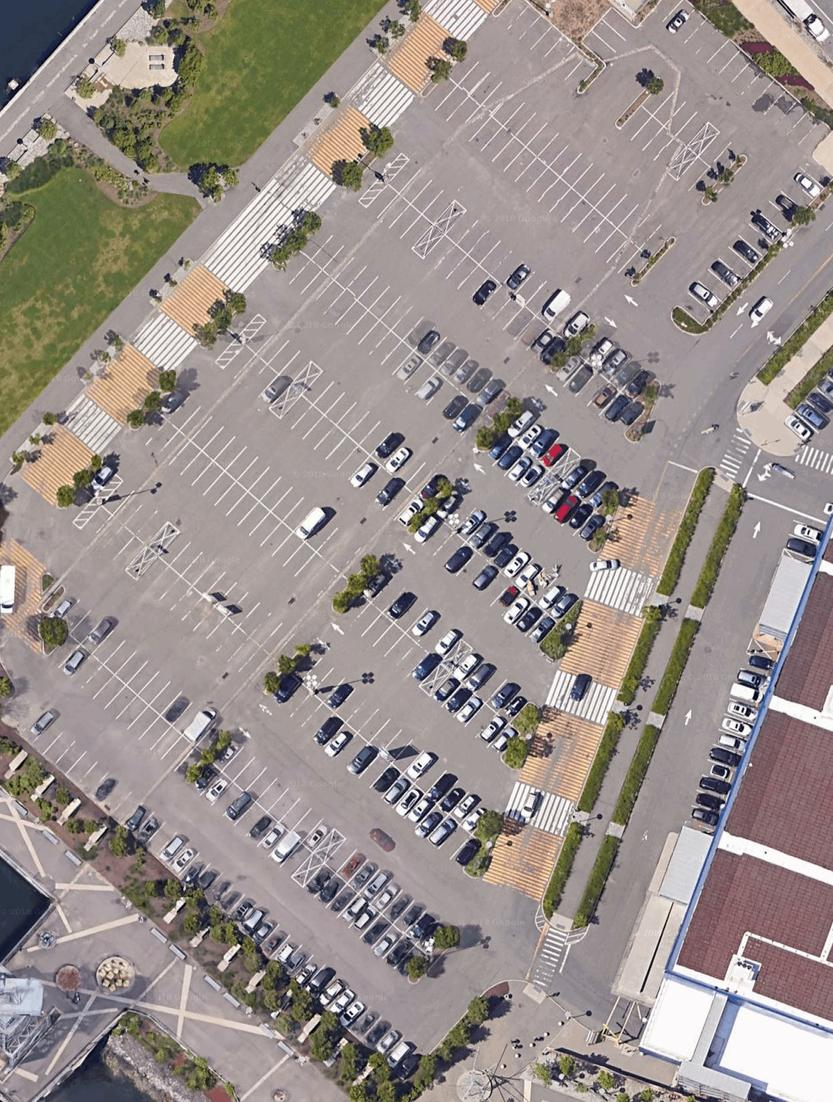parkingspot: (17, 707, 425, 1083), (421, 73, 653, 287), (444, 49, 675, 261), (132, 408, 351, 610), (154, 385, 375, 585), (275, 249, 497, 448), (268, 671, 486, 872), (300, 223, 518, 419), (289, 646, 492, 836), (45, 586, 226, 755), (647, 0, 833, 157), (675, 153, 833, 327), (45, 632, 205, 783), (444, 207, 597, 348), (157, 529, 311, 667), (409, 511, 560, 651), (300, 368, 451, 507), (133, 554, 282, 694), (278, 393, 429, 531), (433, 486, 582, 625), (419, 233, 567, 372), (685, 650, 779, 834), (187, 759, 316, 881), (211, 735, 337, 855), (323, 836, 447, 957), (301, 862, 427, 981), (358, 565, 465, 665), (337, 591, 443, 690), (495, 0, 599, 93), (427, 671, 522, 761), (549, 353, 647, 437), (449, 645, 533, 726), (576, 325, 658, 404), (219, 342, 293, 413), (617, 104, 689, 174), (387, 157, 459, 227), (99, 479, 171, 549), (77, 503, 149, 573), (364, 183, 435, 253), (243, 318, 315, 387), (536, 480, 607, 549), (641, 80, 711, 149), (481, 430, 551, 499), (505, 407, 573, 472), (783, 365, 833, 449), (580, 5, 639, 67), (559, 456, 620, 514), (675, 155, 724, 204), (697, 130, 745, 179), (781, 518, 827, 562), (81, 461, 118, 500), (367, 145, 404, 179), (63, 487, 96, 525)
